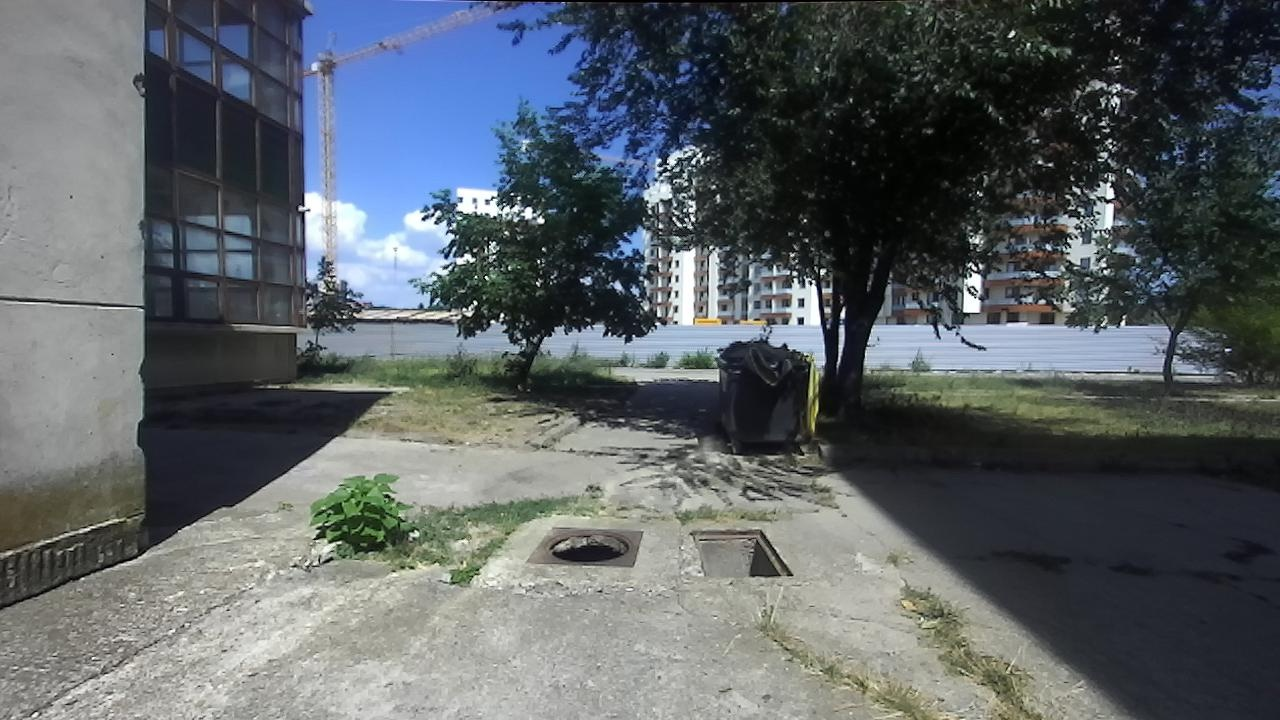drain: (685, 523, 798, 582), (542, 528, 635, 568)
